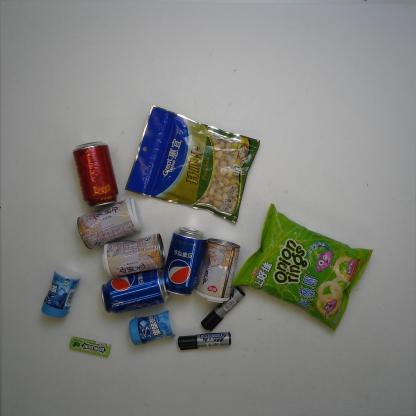Canned Food: (72, 197, 144, 251), (95, 231, 167, 279), (193, 234, 241, 306)
Dried Fruit: (124, 101, 268, 225)
Drink: (69, 138, 121, 207), (161, 222, 206, 297), (98, 269, 173, 313)
Gum: (38, 270, 90, 319), (124, 307, 178, 348), (66, 333, 116, 357)
Puffed Food: (233, 201, 380, 335)
Stationery: (199, 283, 247, 331), (175, 332, 232, 352)
